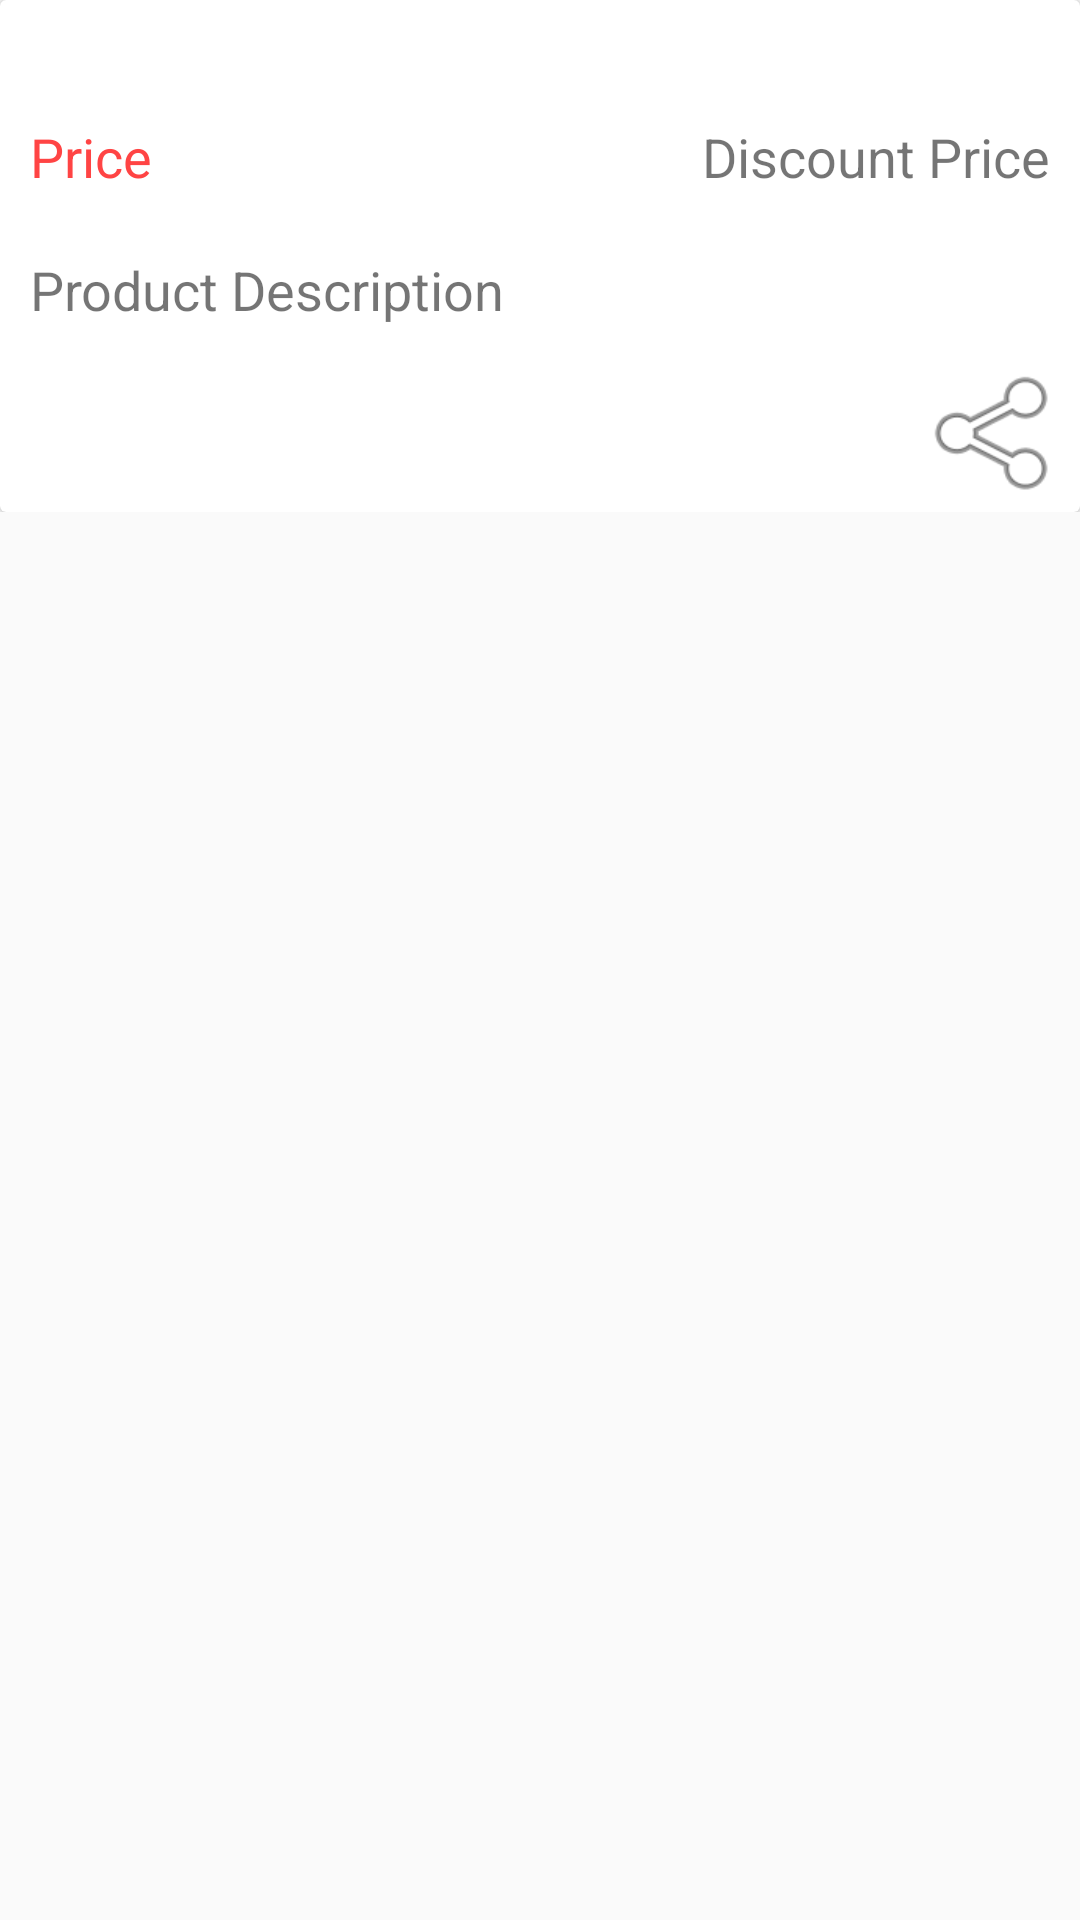

Where to tap for icons on this 1080 × 1920 app screen, as point (x, y):
share: point (991, 433)
